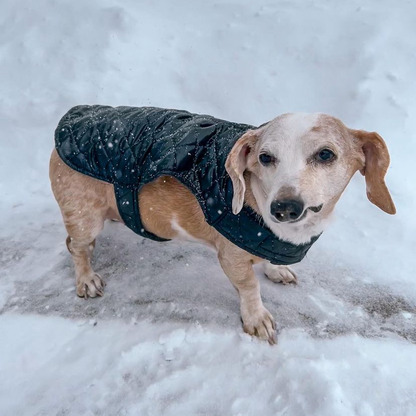dachshund: (46, 90, 393, 345)
